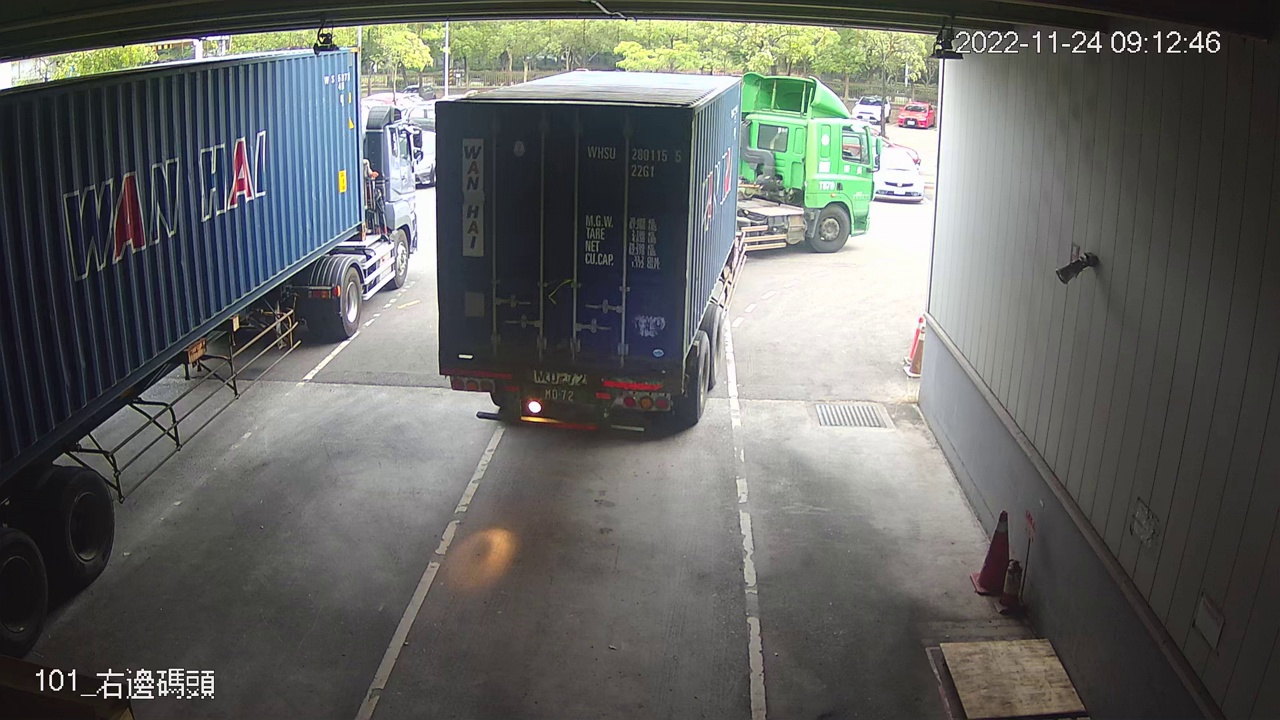container: (577, 137, 687, 185)
